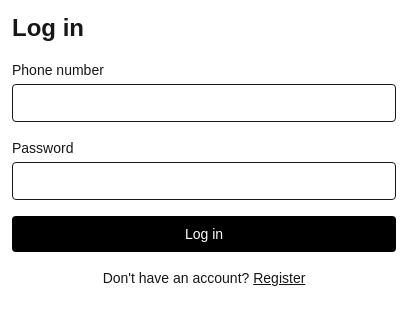
Scenario: LoginForm › shows inline error on invalid_credentials
Type "+1234567890" into the field labelled "Phone number" at point(204, 103), box [12, 84, 396, 122]
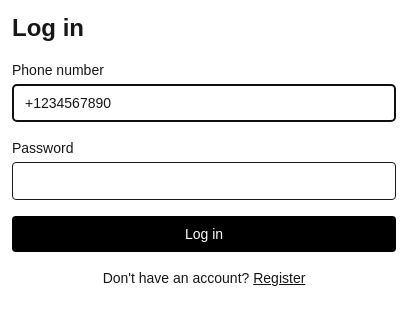
Type "wrong" into the password field labelled "Password" at point(204, 181), box [12, 162, 396, 200]
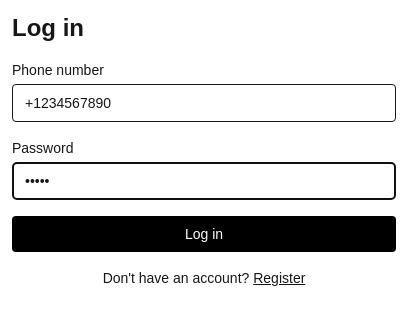
Click the button "Log in" at point(204, 234), box [12, 216, 396, 252]
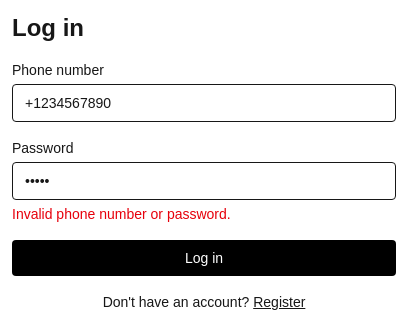
Check: the text "Invalid phone number or password." is shown, box [12, 206, 231, 222]
